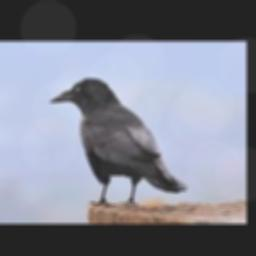Crow: (49, 77, 188, 206)
